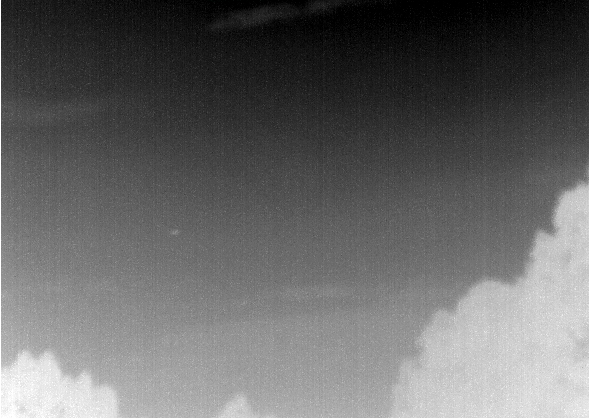dim target: (167, 226, 180, 236)
